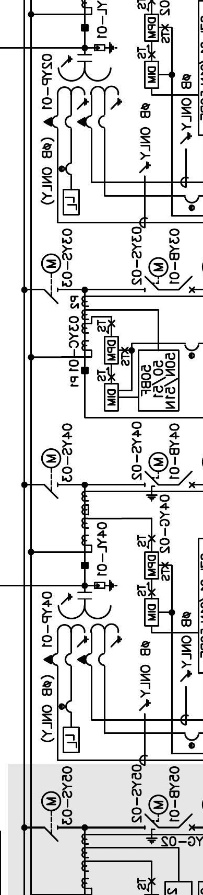115_1way_ds_w_motor: (40, 253, 62, 305), (40, 448, 62, 499), (41, 791, 62, 842), (144, 256, 169, 293)
115_3ways_ds_w_motor: (144, 794, 169, 845), (144, 452, 169, 502)
115_breaker: (178, 275, 195, 293), (178, 470, 195, 488), (178, 813, 195, 831)
115_cvt_1p: (43, 53, 123, 130), (43, 591, 123, 667)
115_la: (94, 579, 118, 592), (94, 42, 118, 54)
DIM: (103, 383, 119, 412), (144, 60, 159, 89), (144, 598, 159, 627)
DPM: (103, 335, 119, 365), (144, 13, 159, 42), (144, 551, 159, 580)
LL: (62, 189, 80, 216), (63, 726, 80, 753)
